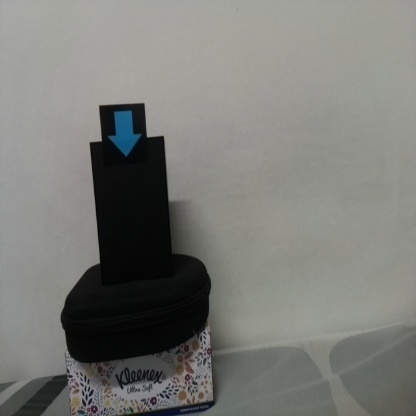id_2: (99, 105, 147, 163)
